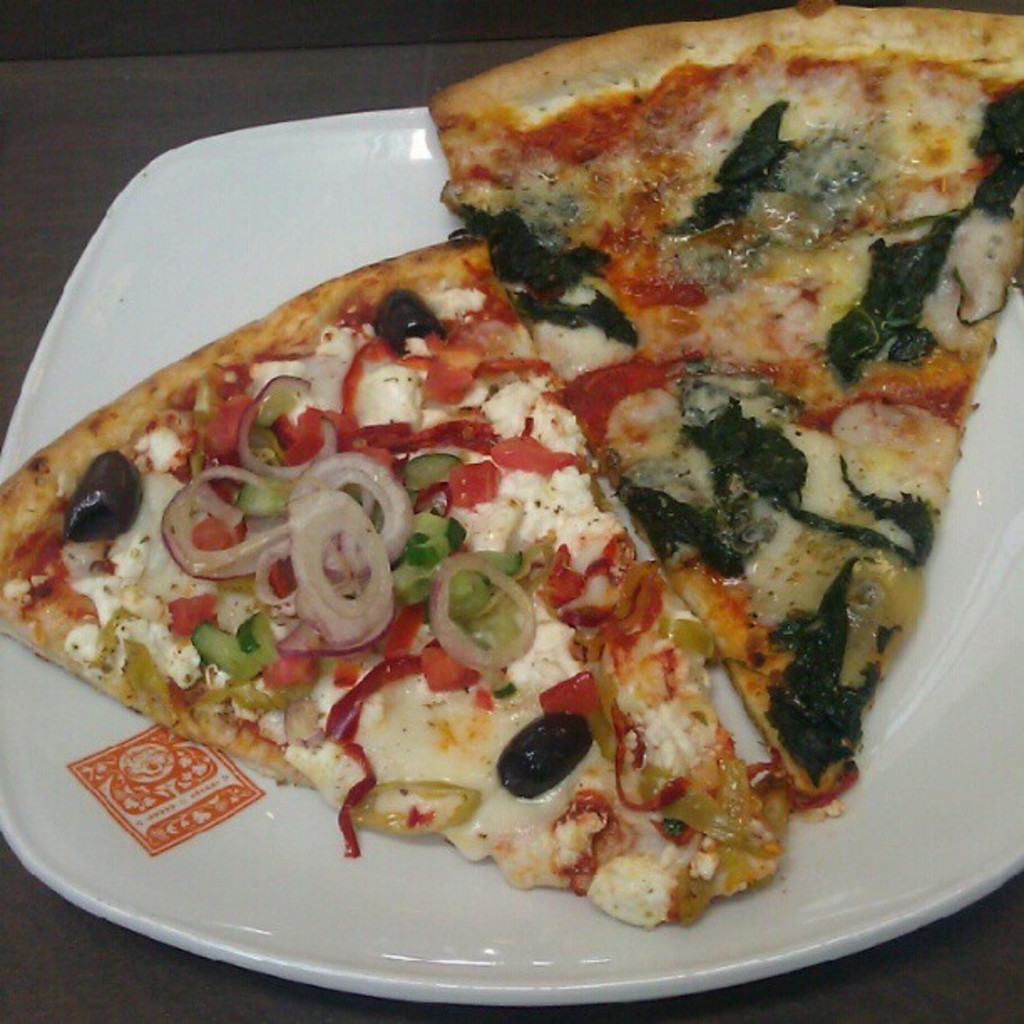Pizza: (419, 1, 1022, 819)
